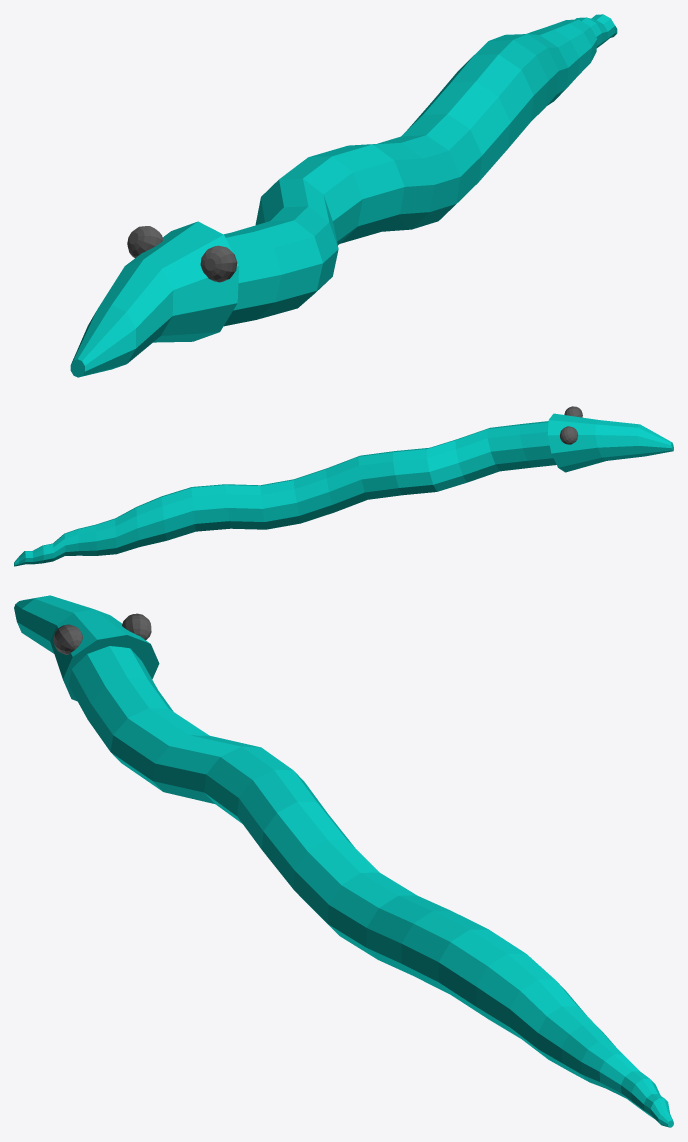
File: snake.fbx
3 views of the same model, one above another, from view 1: azimuth 30°, elevation 25°; view 2: azimuth 150°, elevation 25°; view 3: azimuth 270°, elevation 25° (orthographic). The views are drawn at different scales.
Parts seen in each view (by area): view 1: mesh887090180, mesh1032169531, mesh1368347577, mesh148547608; view 2: mesh887090180, mesh1032169531, mesh148547608; view 3: mesh887090180, mesh1032169531.
Part boxes in pixels (<box>): mesh887090180: <box>224,14,617,326</box>; mesh1032169531: <box>70,221,239,377</box>; mesh1368347577: <box>200,245,237,282</box>; mesh148547608: <box>127,226,163,257</box>; mesh887090180: <box>14,421,556,566</box>; mesh1032169531: <box>547,413,673,472</box>; mesh148547608: <box>560,426,578,444</box>; mesh887090180: <box>68,646,673,1127</box>; mesh1032169531: <box>14,595,159,700</box>.
Size of the model in its own units: 116 by 28.12 by 85.9.
